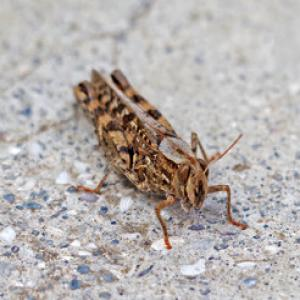locust: (63, 40, 250, 254)
